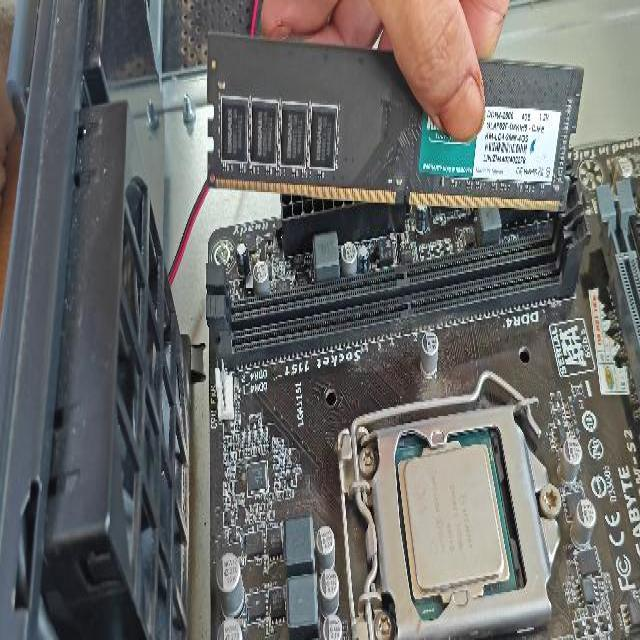CPU: (398, 442, 512, 602)
RAM: (207, 28, 585, 218)
